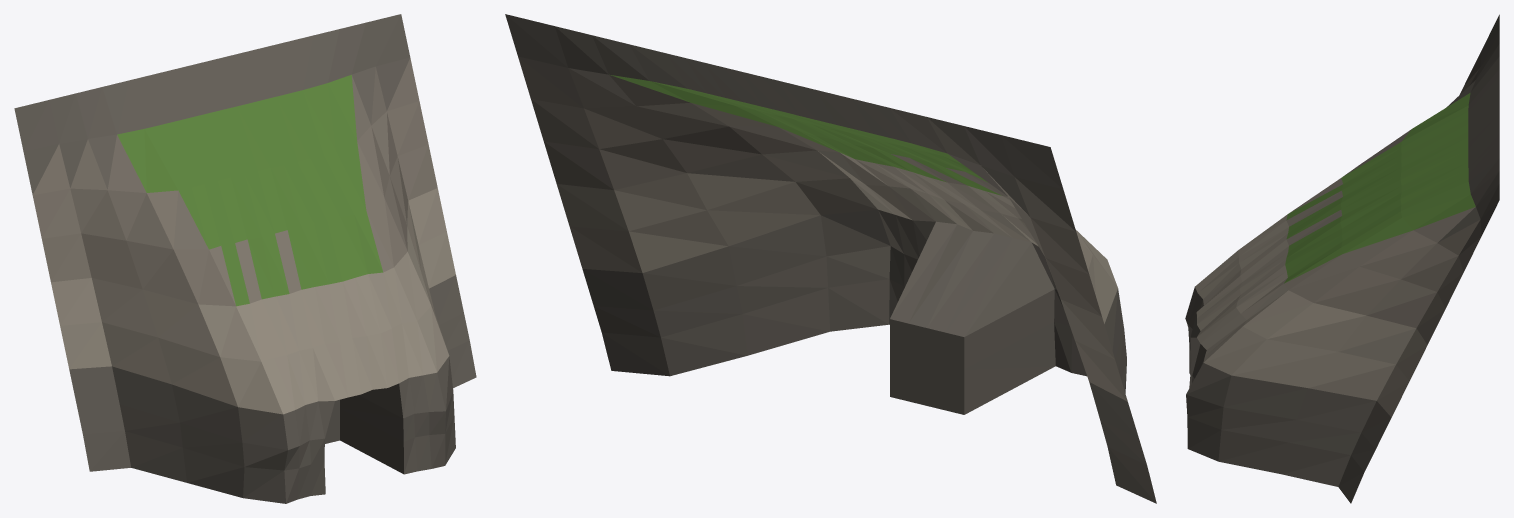
File: MineFace.fbx
3 views of the same model, side by side, from view 1: azimuth 30°, elevation 25°; view 2: azimuth 150°, elevation 25°; view 3: azimuth 270°, elevation 25° (orthographic). The views are drawn at different scales.
Visible parts, largest first — view 1: MineFace_rock_dk, MineFace_rock_lt, MineFace_grass_dk, MineFace_rock; view 2: MineFace_rock_dk, MineFace_rock_lt, MineFace_rock, MineFace_grass_dk; view 3: MineFace_rock_dk, MineFace_rock_lt, MineFace_grass_dk, MineFace_rock.
Part boxes in pixels (x1,y1,x2,y2): MineFace_rock_dk: (14, 14, 476, 503); MineFace_rock_lt: (51, 188, 455, 414); MineFace_grass_dk: (117, 74, 383, 306); MineFace_rock: (32, 58, 437, 306); MineFace_rock_dk: (505, 14, 1156, 503); MineFace_rock_lt: (556, 150, 1127, 401); MineFace_rock: (518, 57, 1101, 316); MineFace_grass_dk: (609, 74, 1001, 195); MineFace_rock_dk: (1185, 14, 1499, 503); MineFace_rock_lt: (1195, 214, 1427, 417); MineFace_grass_dk: (1284, 93, 1475, 283); MineFace_rock: (1284, 68, 1480, 344).
Size of the model in its own units: 44 by 33.5 by 31.41.
